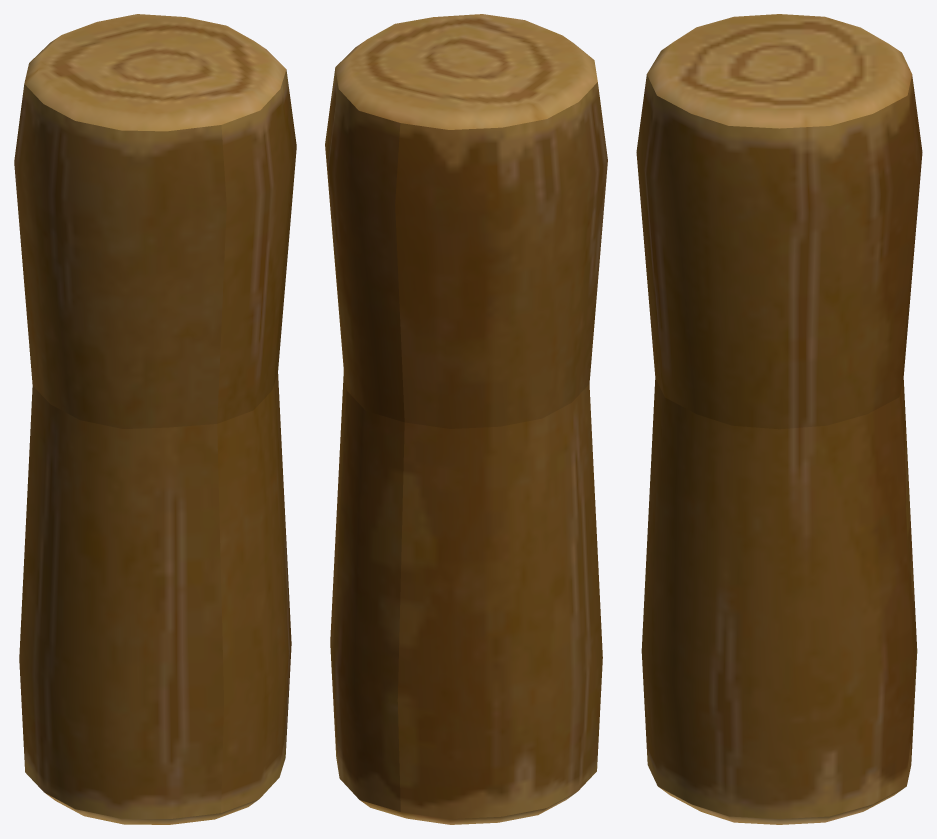
The model's file is WoodenPost.fbx.
The picture shows the model from 3 angles, left to right: view 1: azimuth 30°, elevation 25°; view 2: azimuth 150°, elevation 25°; view 3: azimuth 270°, elevation 25°; orthographic projection.
Visible parts, largest first — view 1: ModelWoodenPost; view 2: ModelWoodenPost; view 3: ModelWoodenPost.
Part boxes in pixels (box(x1,y1,x2,y2)): ModelWoodenPost: box(14, 14, 296, 824); ModelWoodenPost: box(325, 14, 607, 824); ModelWoodenPost: box(636, 14, 922, 824).
Bounding box in the file's own units: 66.99 × 188 × 68.12.
1 material, 1 textured.
